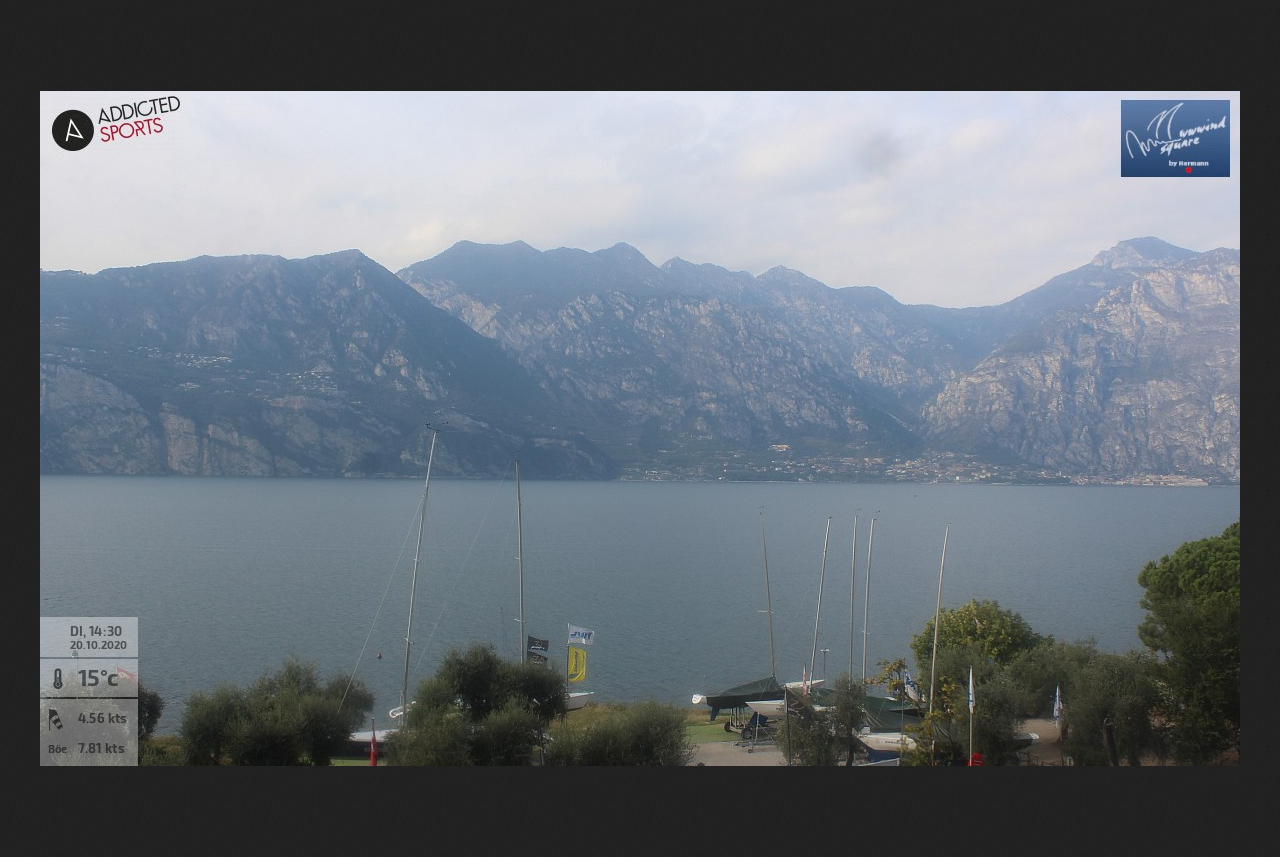no: (961, 660, 984, 717)
yes: (561, 617, 604, 648), (562, 643, 592, 687), (525, 629, 551, 654)
